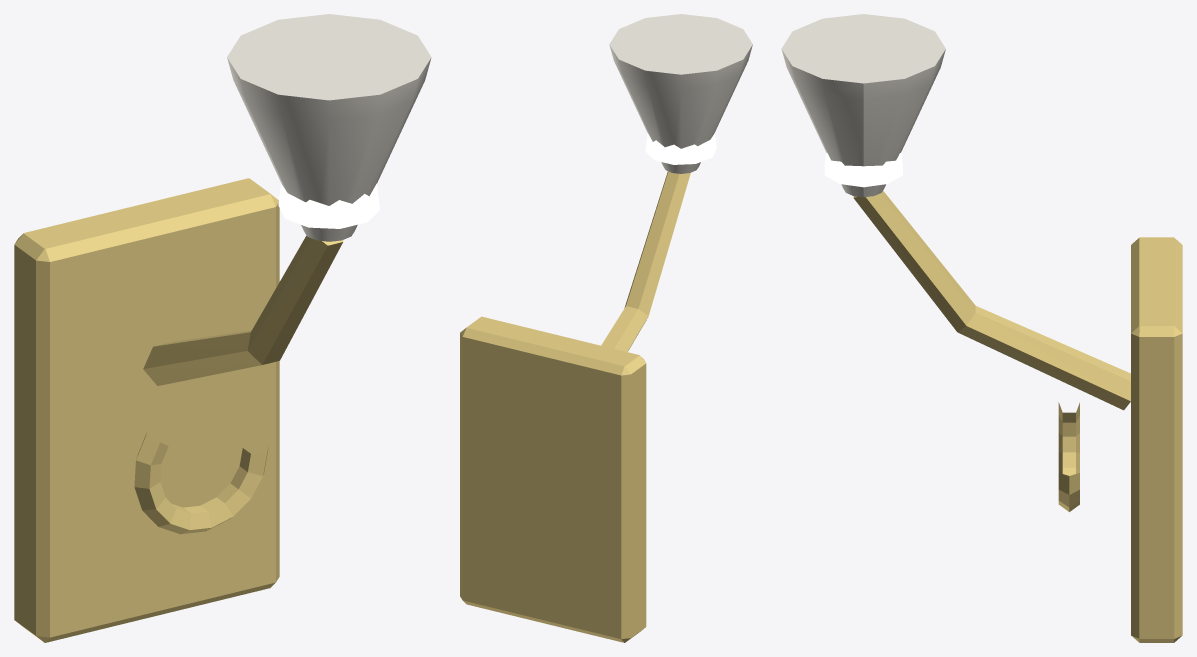
Rendered from theatre-stage-and-backstage-house-lighting-bracket-381e7e7d.glb.
3 renders of one model, left to right at view 1: azimuth 30°, elevation 25°; view 2: azimuth 150°, elevation 25°; view 3: azimuth 270°, elevation 25°, orthographic. The views are drawn at different scales.
Visible parts, largest first — view 1: house-lighting-bracket; view 2: house-lighting-bracket; view 3: house-lighting-bracket.
Part boxes in pixels (x1,y1,x2,y2): house-lighting-bracket: (14,14,431,642); house-lighting-bracket: (460,14,752,642); house-lighting-bracket: (781,14,1182,642).
Bounding box in the file's own units: 0.22 × 0.59 × 0.39.
